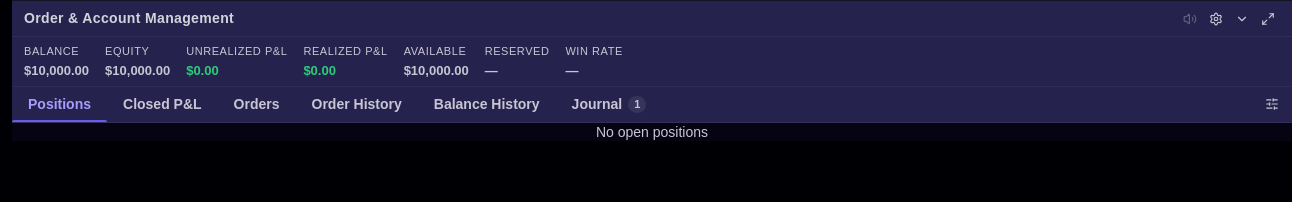
Test: Section 4.8–4.11 — Journal tab › 4.8: system entry (isUserNote=false) does not render an "Edit note" pencil
The width and height of the screenshot is (1292, 202).
What coordinates should you click on to do the following:
click the button "journal 1"
I would click on:
 (609, 104)
Its box is [556,87,662,122].
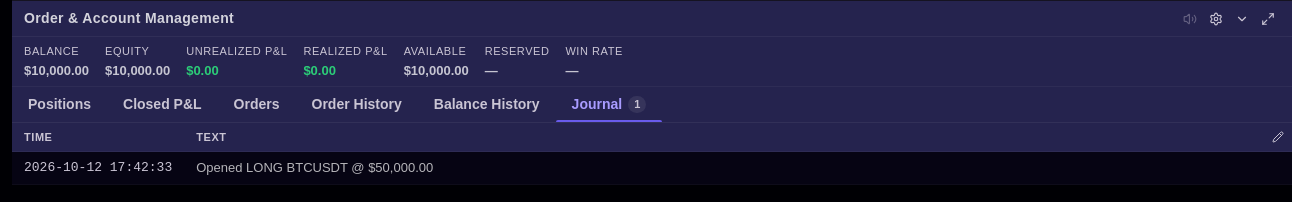
Result: the text "Opened LONG BTCUSDT @ $50,000.00" is shown at [196,158,433,178]
